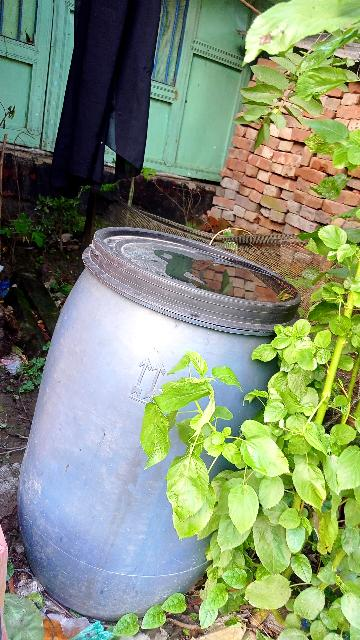hardplastic: (0, 228, 296, 628)
